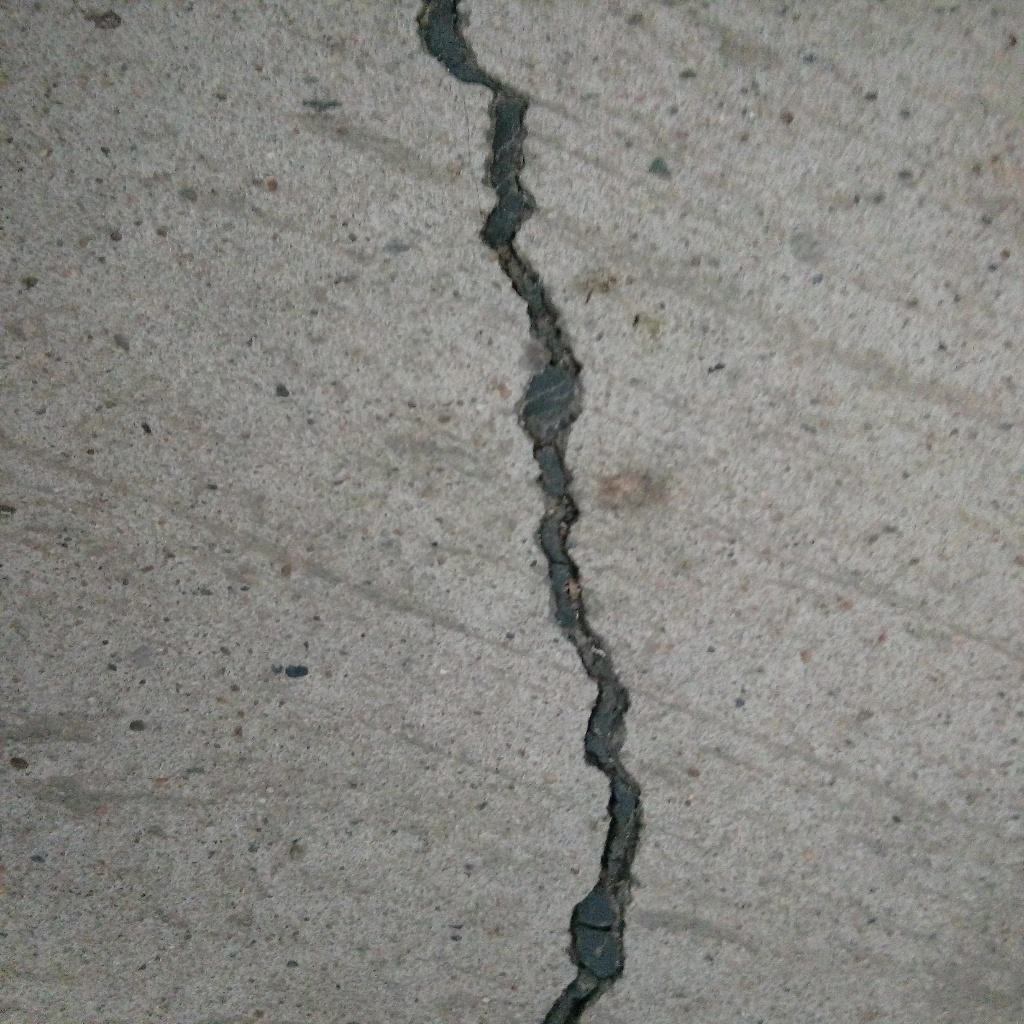Crack: (412, 1, 643, 1024)
